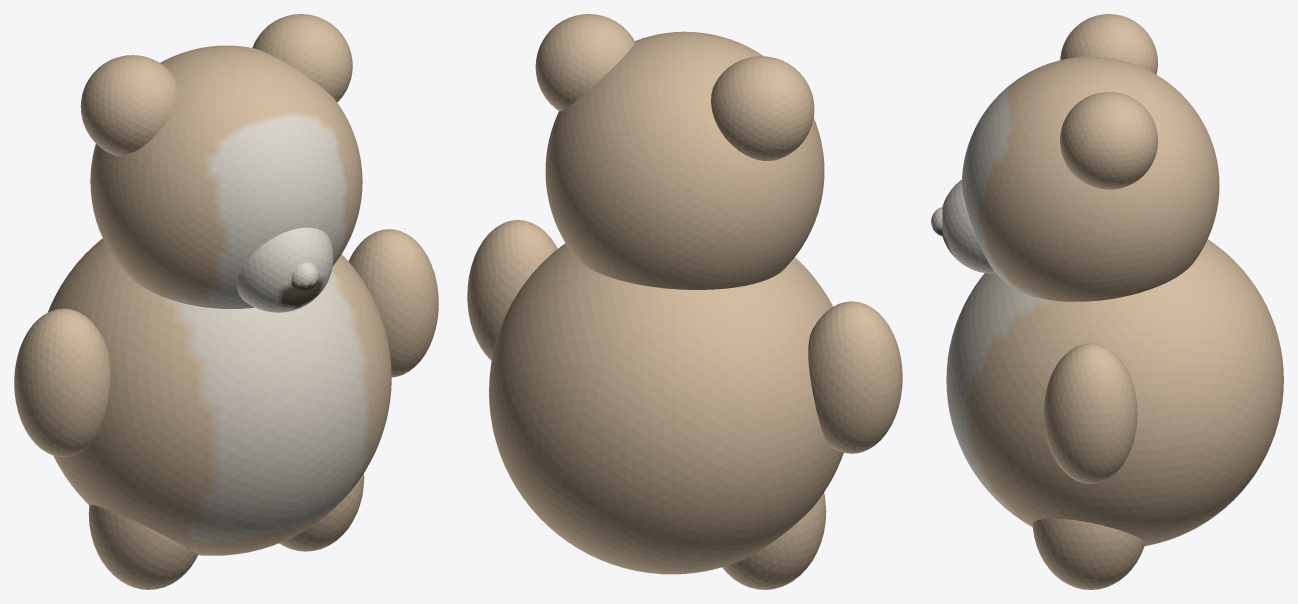
File: plush_bear.glb
The picture shows the model from 3 angles, left to right: view 1: azimuth 30°, elevation 25°; view 2: azimuth 150°, elevation 25°; view 3: azimuth 270°, elevation 25°; orthographic projection. The views are drawn at different scales.
Parts seen in each view (by area): view 1: geometry_0; view 2: geometry_0; view 3: geometry_0.
Part boxes in pixels (<box>): geometry_0: <box>14,14,438,589</box>; geometry_0: <box>467,14,902,589</box>; geometry_0: <box>931,14,1283,589</box>.
Size of the model in its own units: 1.47 by 1.77 by 1.15.
